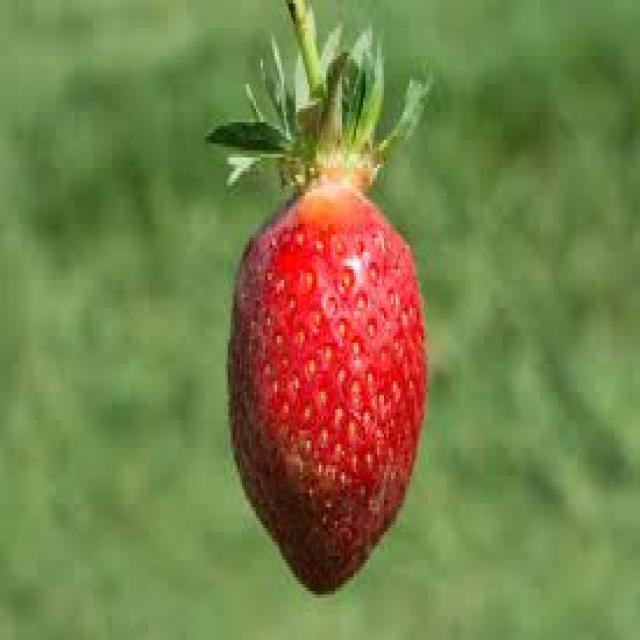strawberry: (205, 0, 454, 602)
